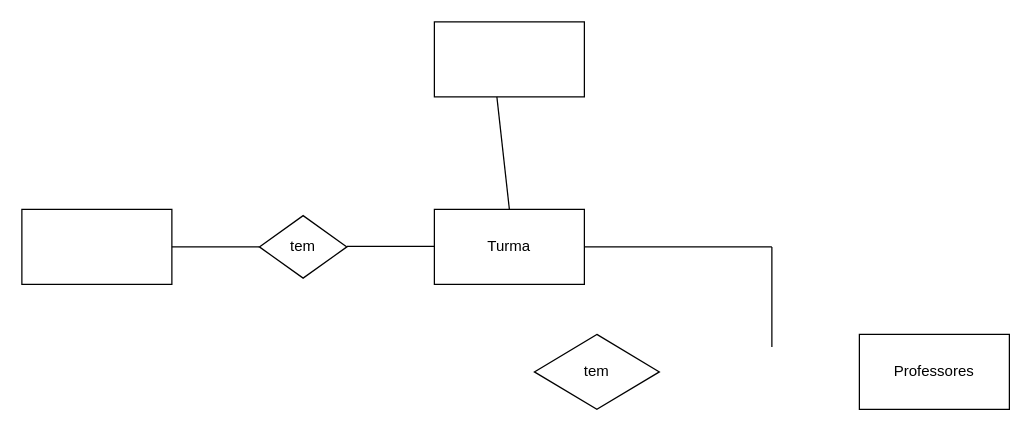
Some shapes in this 1031 by 431 pixel diagram are drawn without their labels. The shapes that lost their labels are listed below. From the top down, each one's centre as x and y in pixels, then its label:
At [508,59]: "Cursos".
At [96,246]: "Alunos".
